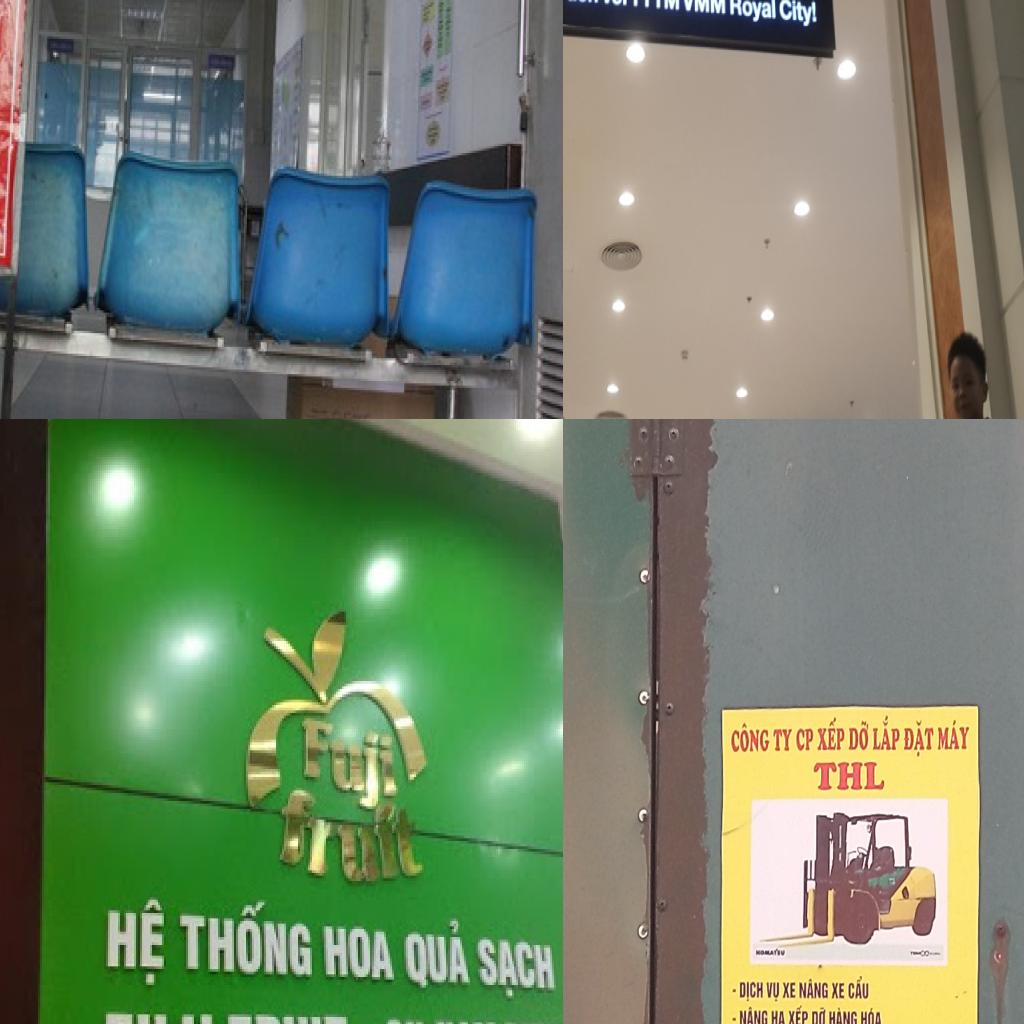text: (272, 780, 432, 900), (178, 894, 316, 985), (302, 716, 404, 817), (104, 889, 170, 990), (474, 929, 560, 1004), (404, 916, 476, 993), (322, 921, 400, 988), (812, 758, 888, 794), (100, 1006, 220, 1024), (730, 720, 770, 757), (902, 716, 936, 759), (936, 717, 971, 753), (779, 0, 819, 31), (728, 0, 777, 25), (871, 713, 900, 753), (816, 716, 846, 753), (846, 718, 870, 751), (680, 0, 726, 17), (798, 978, 829, 1000), (772, 724, 794, 753), (739, 979, 765, 1002), (848, 975, 870, 1001), (738, 1005, 768, 1024), (629, 0, 680, 11), (828, 1006, 857, 1024), (786, 1003, 809, 1024), (795, 726, 814, 751), (860, 1006, 884, 1024), (755, 947, 786, 958), (766, 980, 780, 1003), (782, 979, 796, 1001), (770, 1007, 787, 1024), (811, 1005, 826, 1024), (601, 0, 628, 10), (831, 981, 845, 1000), (731, 986, 737, 994), (731, 1016, 737, 1022)
